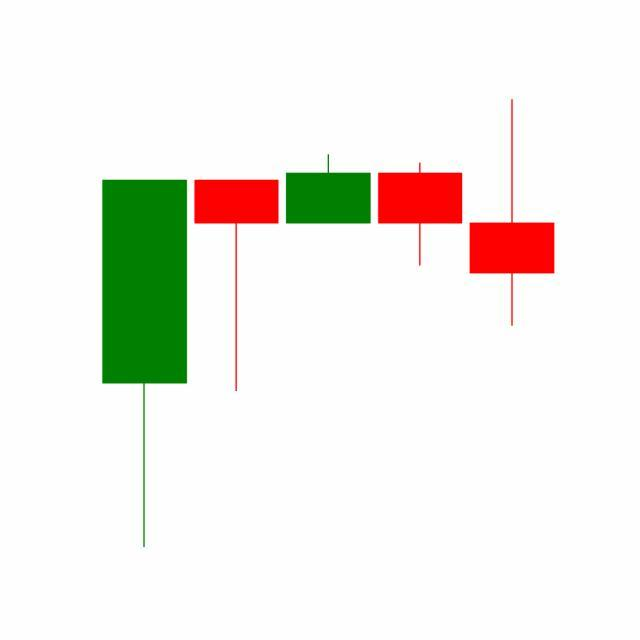Spinning Top: (466, 97, 559, 330)
